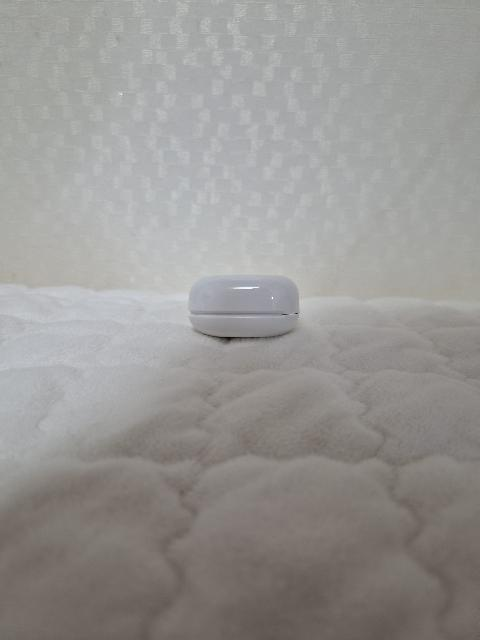earphone_case: (188, 274, 300, 338)
